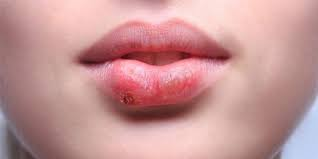herpes: (108, 81, 153, 113)
